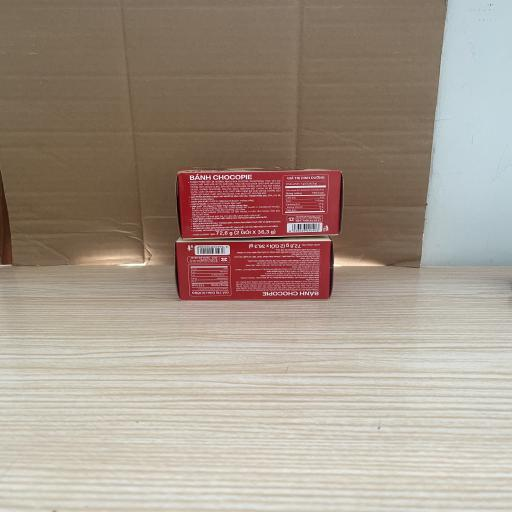chocopie: (176, 167, 343, 240), (175, 236, 333, 301)
